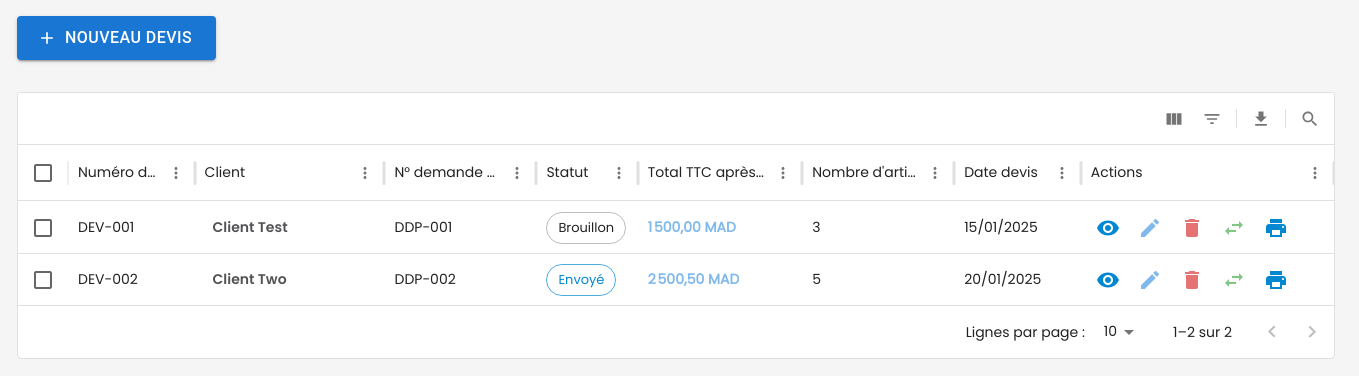
Test case: CompanyDocumentsListContent › Convert functionality › shows convert menu when convert button is clicked
What coordinates should you click on to do the following:
click the button with test id "SwapHorizIcon"
I would click on:
 (1234, 228)
Its box is [1217,211,1251,245].
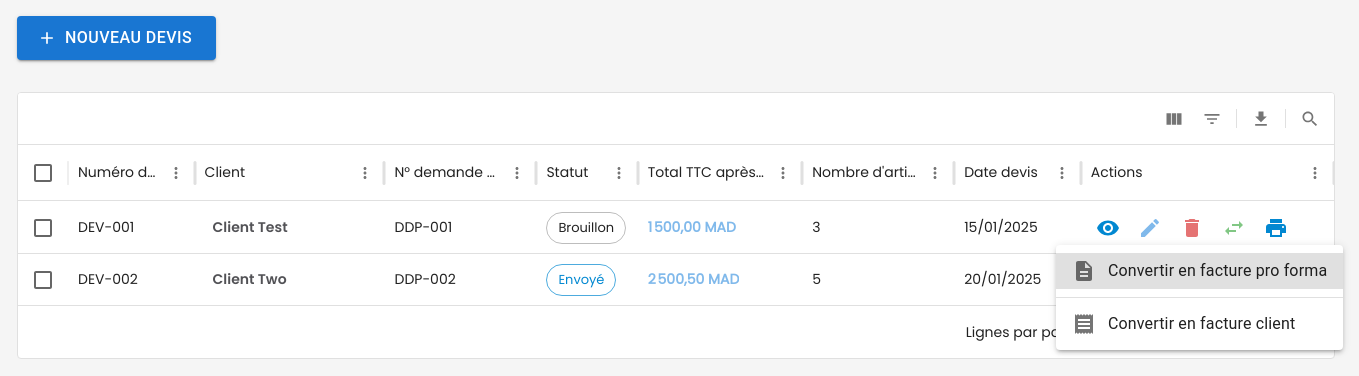
Now the text "Convertir en facture pro forma" is shown, box [1108,259,1327,283]
